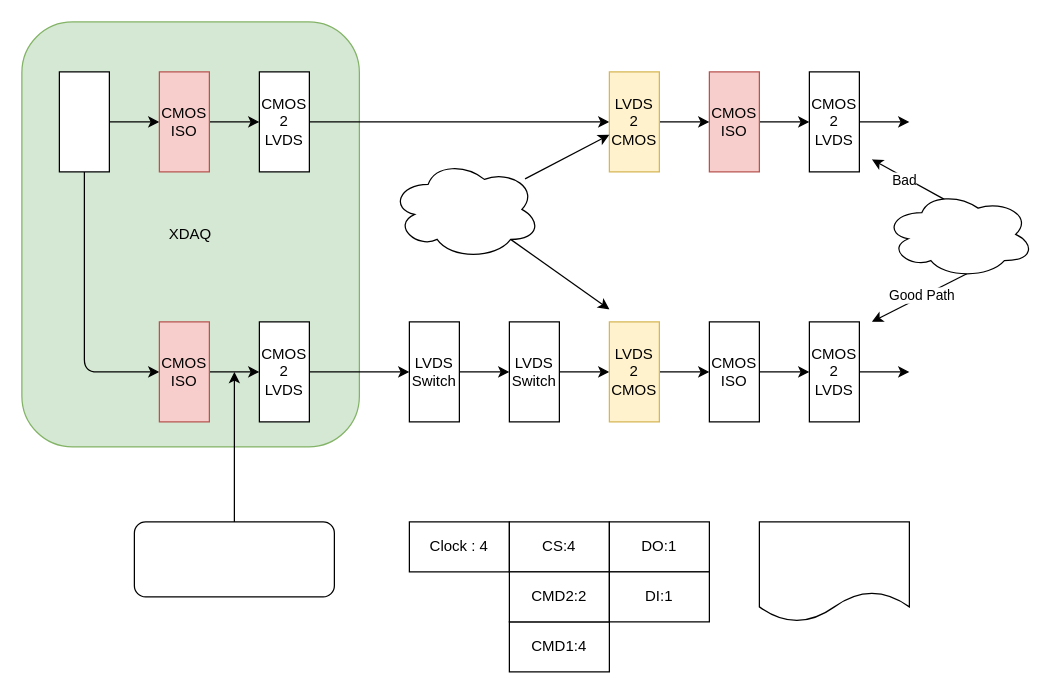
Image size: 1056x694. Some labels were removed from this diagram. Each missing label, with the centre of its shape:
Bad Path diff in 1,2: the point at 958,233
FanOut Issue?: the point at 465,208
FPGA: the point at 83,121
LVDS ISO: the point at 833,571
Signal Input and Output Measurment Point: the point at 233,559
